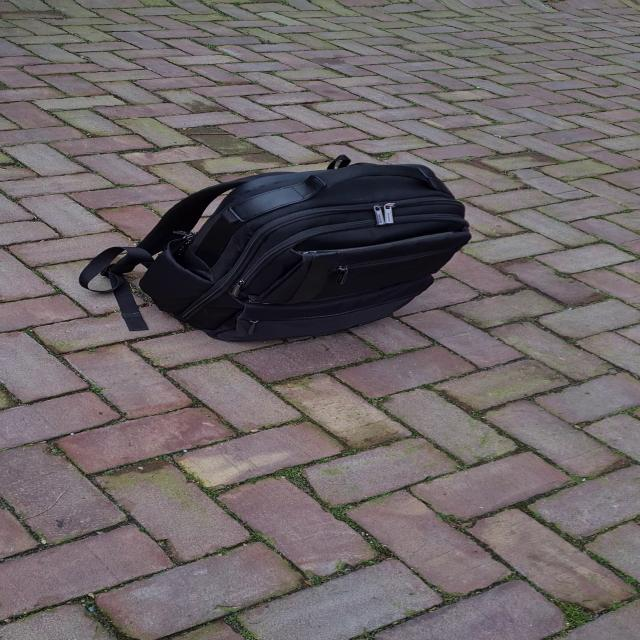backpack: (115, 150, 489, 347)
